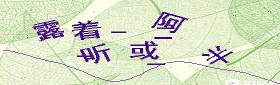chinese: (153, 8, 190, 38), (77, 44, 116, 69), (33, 16, 66, 44), (203, 43, 236, 69), (71, 19, 106, 43), (129, 42, 165, 62)
